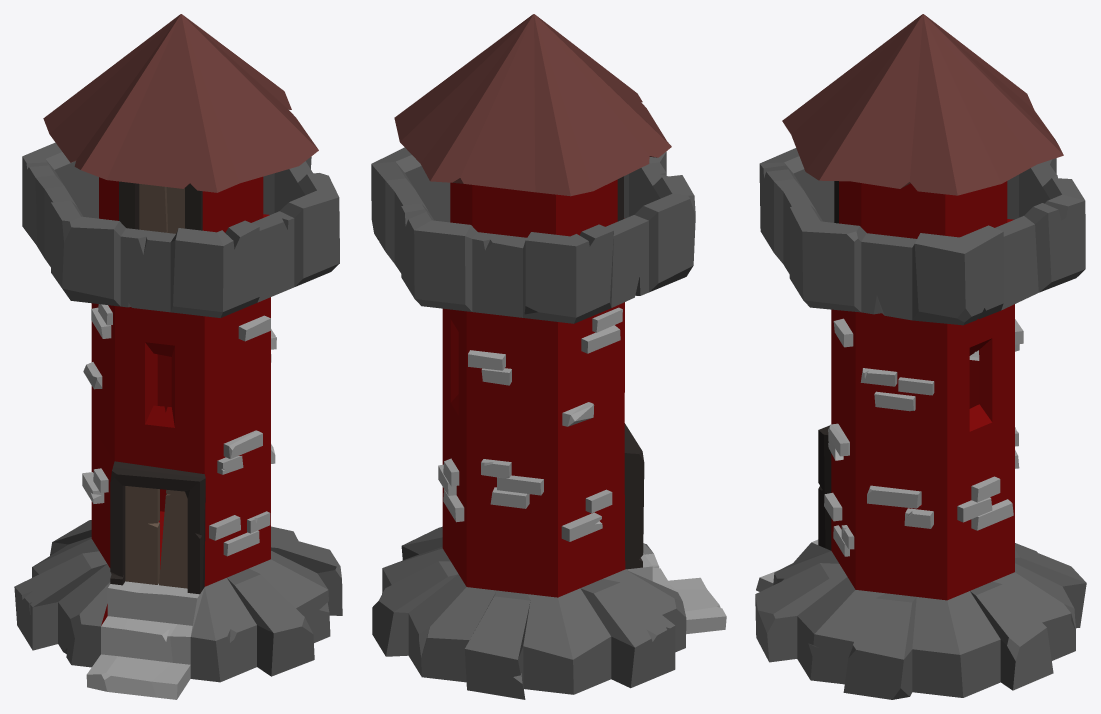
The model's file is base_red_0.glb.
3 views of the same model, side by side, from view 1: azimuth 30°, elevation 25°; view 2: azimuth 150°, elevation 25°; view 3: azimuth 270°, elevation 25° (orthographic). The views are drawn at different scales.
Visible parts, largest first — view 1: Cylinder; view 2: Cylinder; view 3: Cylinder.
Boxes of the visible parts, left/top/right/bottom form: Cylinder: left=14, top=14, right=342, bottom=699; Cylinder: left=371, top=14, right=726, bottom=699; Cylinder: left=755, top=14, right=1086, bottom=699.
Size of the model in its own units: 0.4899 by 1 by 0.4854.
